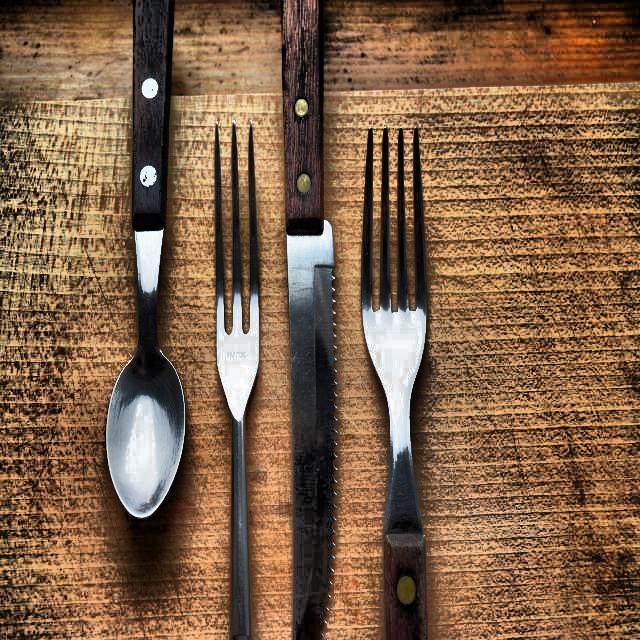knife: (275, 0, 344, 640)
